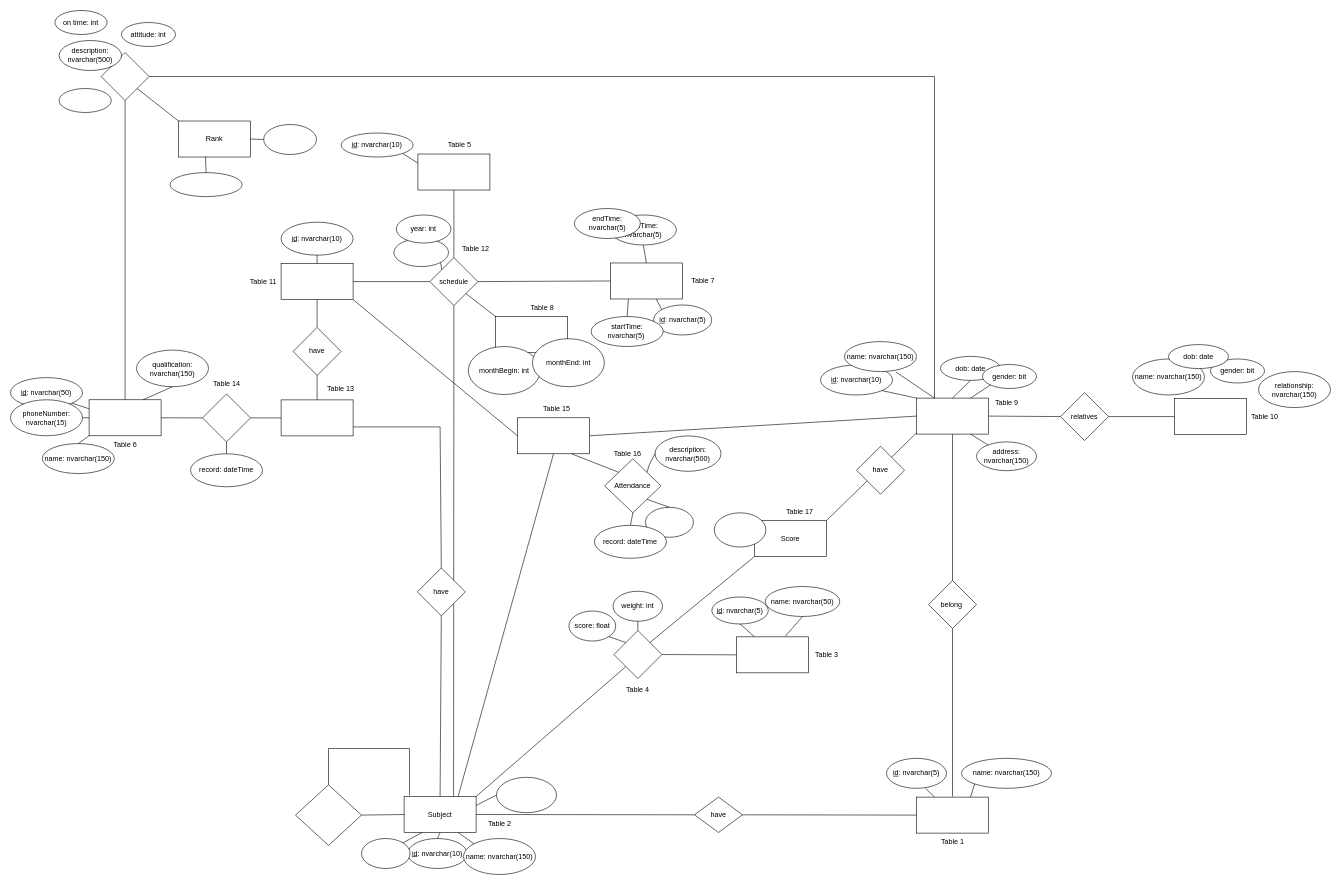
The diagram is 1341 pixels wide and 885 high, and some of its shapes have lost their labels. Each missing label, with the centre of its shape:
Assessment: the point at 772,654
creadit: int: the point at 385,853
Dependent: the point at 1210,416
Evaluate: the point at 124,76
grade: the point at 637,654
Group: the point at 316,281
id : int: the point at 206,184
isPresent: bit: the point at 669,522
isTaken: the point at 226,417
Lecturer: the point at 124,417
Lession: the point at 316,417
Major: the point at 952,814
Participate: the point at 553,435
Prerequisites: the point at 328,814
Room: the point at 453,171
semester: int: the point at 526,795
Slot: the point at 646,280
Student: the point at 952,416
Term: the point at 531,334
value: float: the point at 740,529
value: nvarchar(50): the point at 289,139
weekday: nvarchar(5): the point at 420,252
